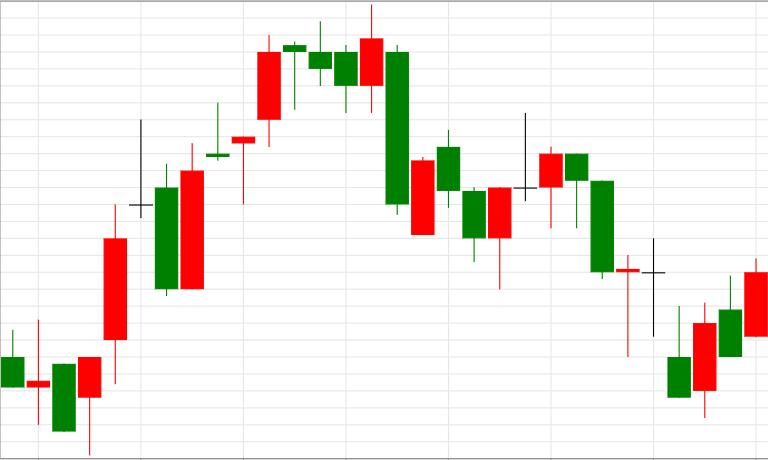bullish_engulfing_rise: (565, 154, 716, 418)
